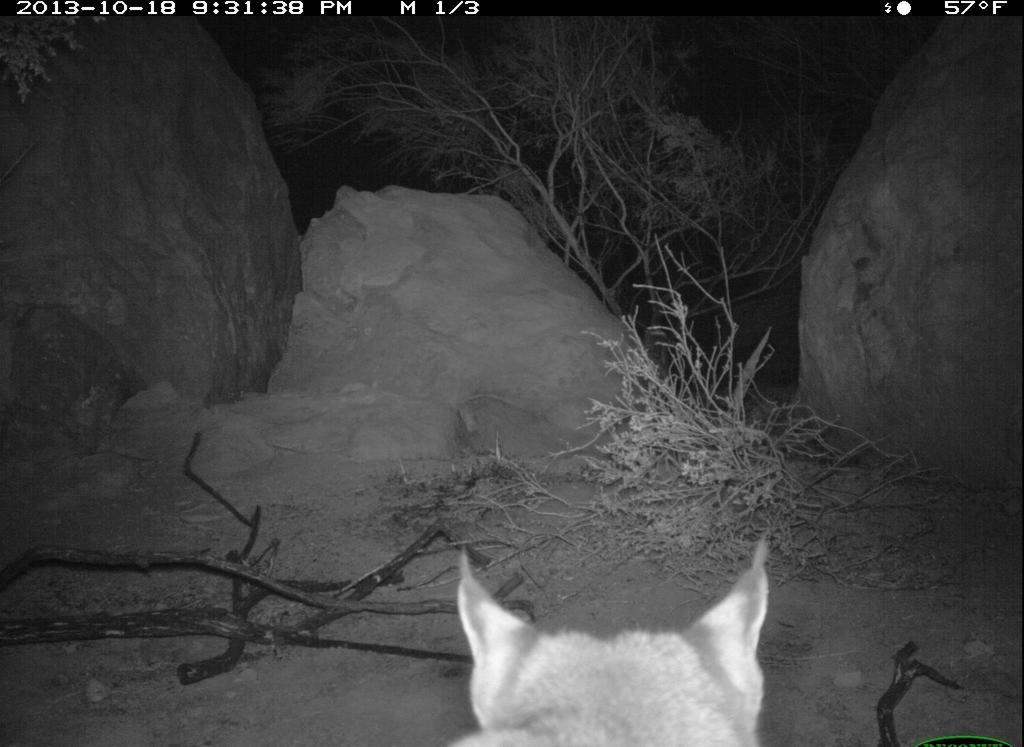bobcat: (353, 483, 833, 747)
